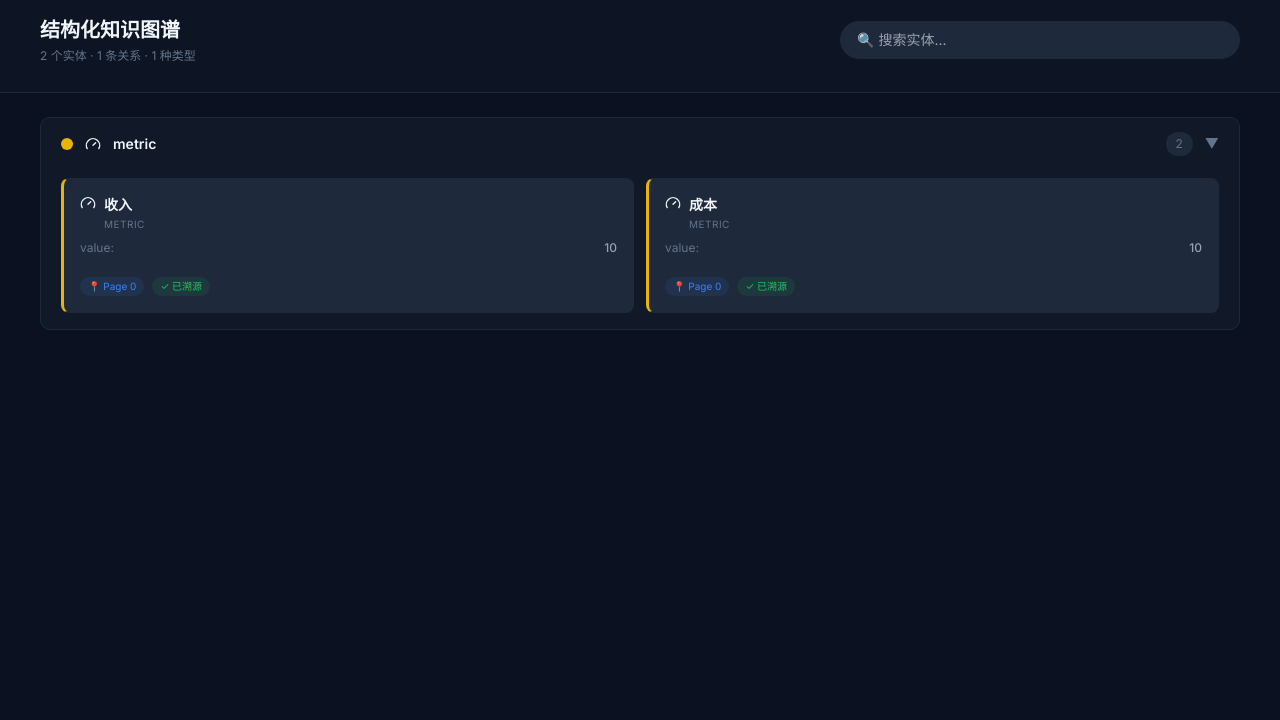
Scenario: structured view searches label/properties and opens/closes and navigates entity details
Click the heading "收入" at (118, 204), box [104,196,132,213]
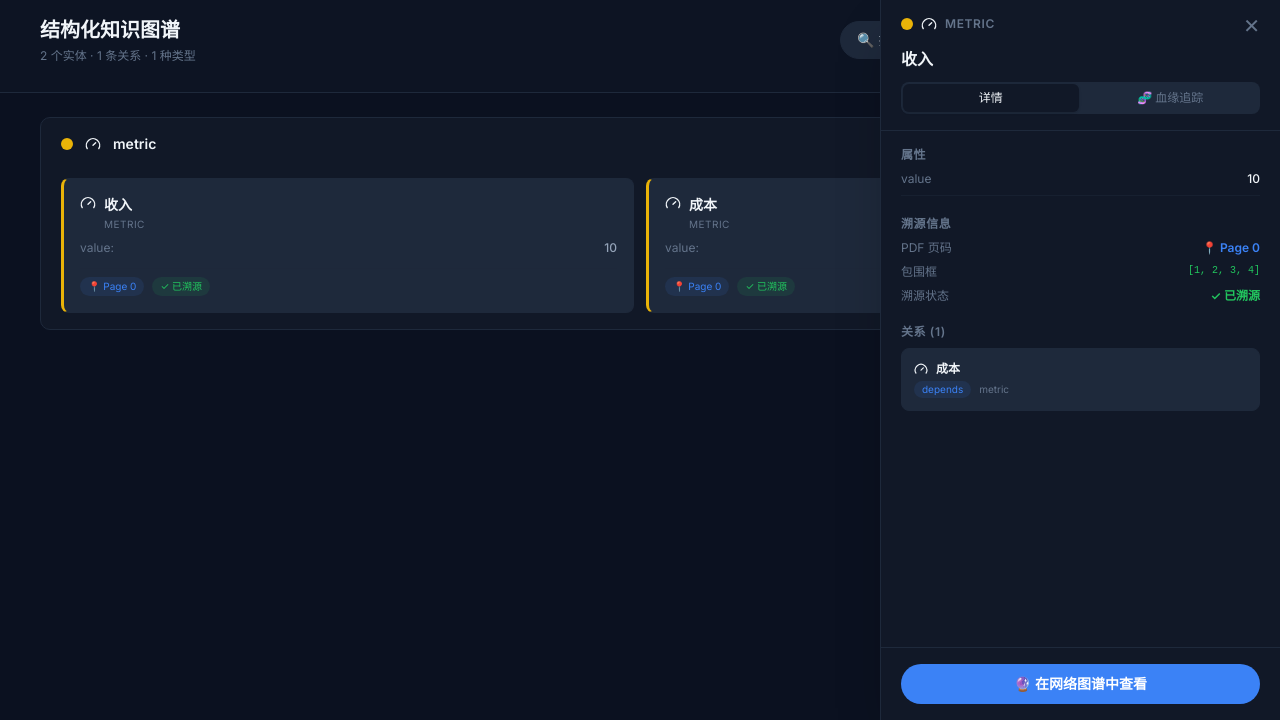
Check: the heading "关系 (1)" is shown, box [901,324,946,339]
Click the button "🔮 在网络图谱中查看" at (1080, 684), box [901,664,1260,704]
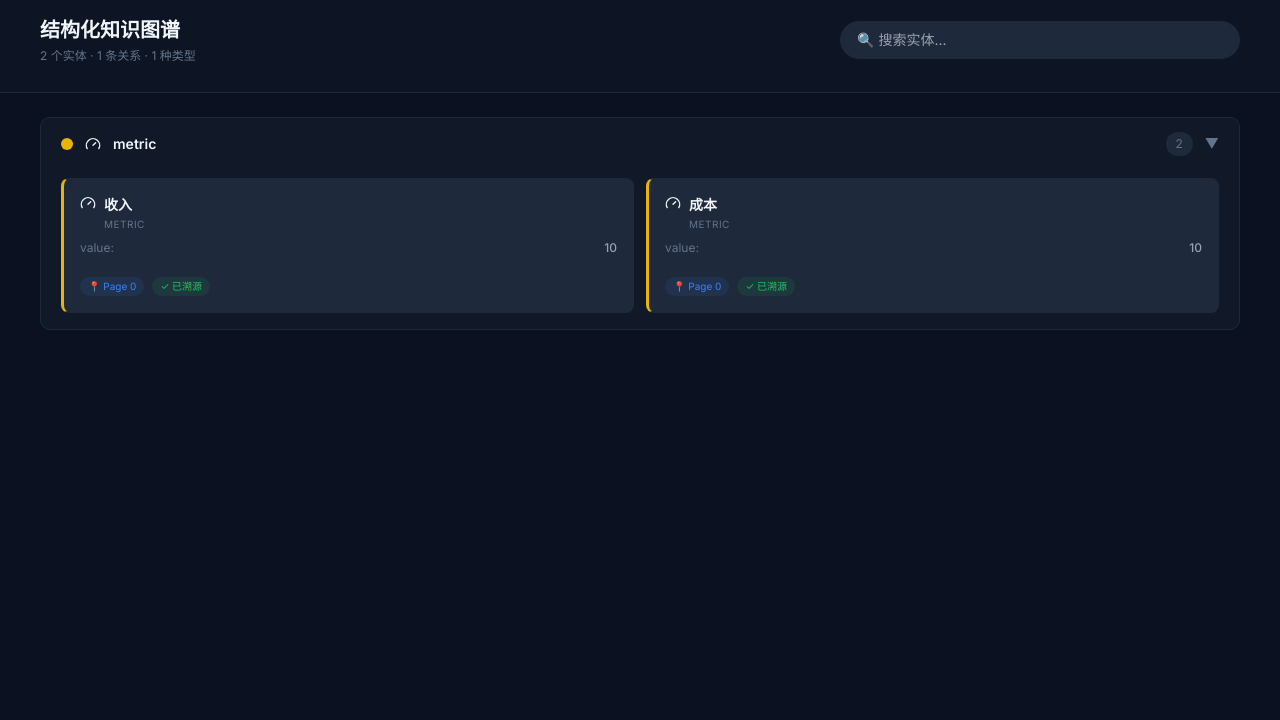
Click the heading "成本" at (703, 204), box [689,196,717,213]
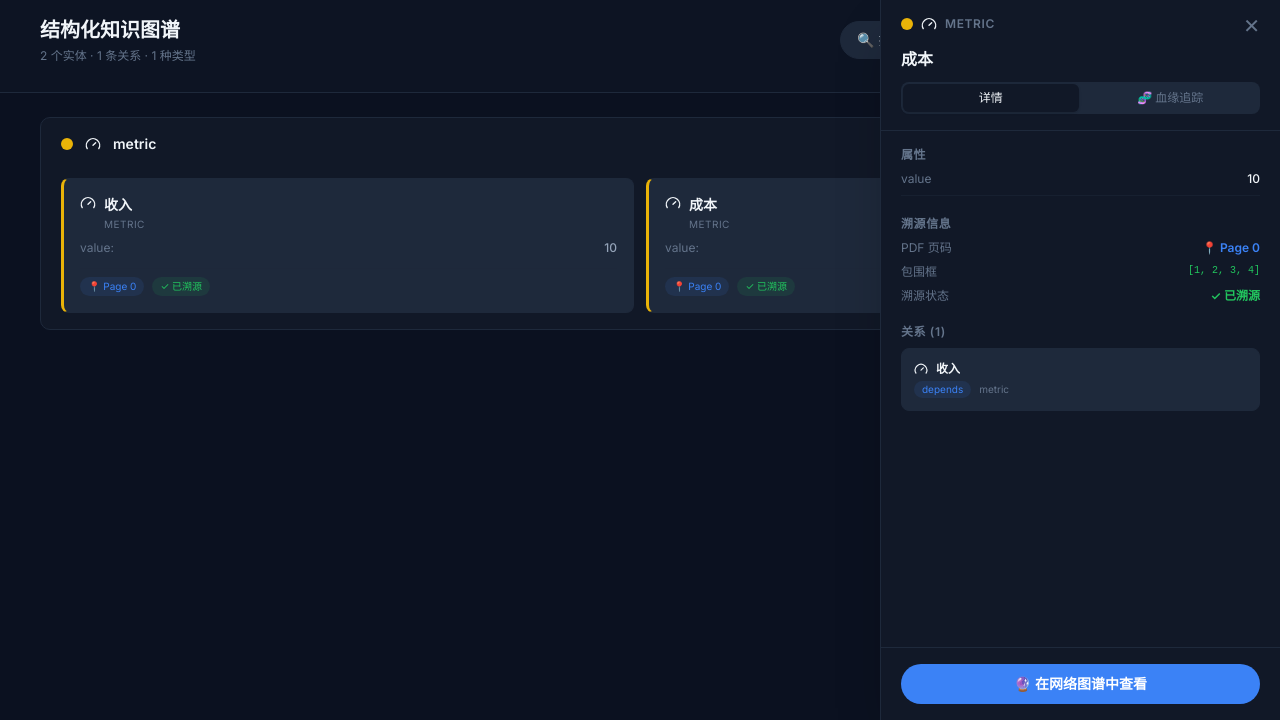
Click the button "✕" at (1252, 26), box [1243,16,1260,36]
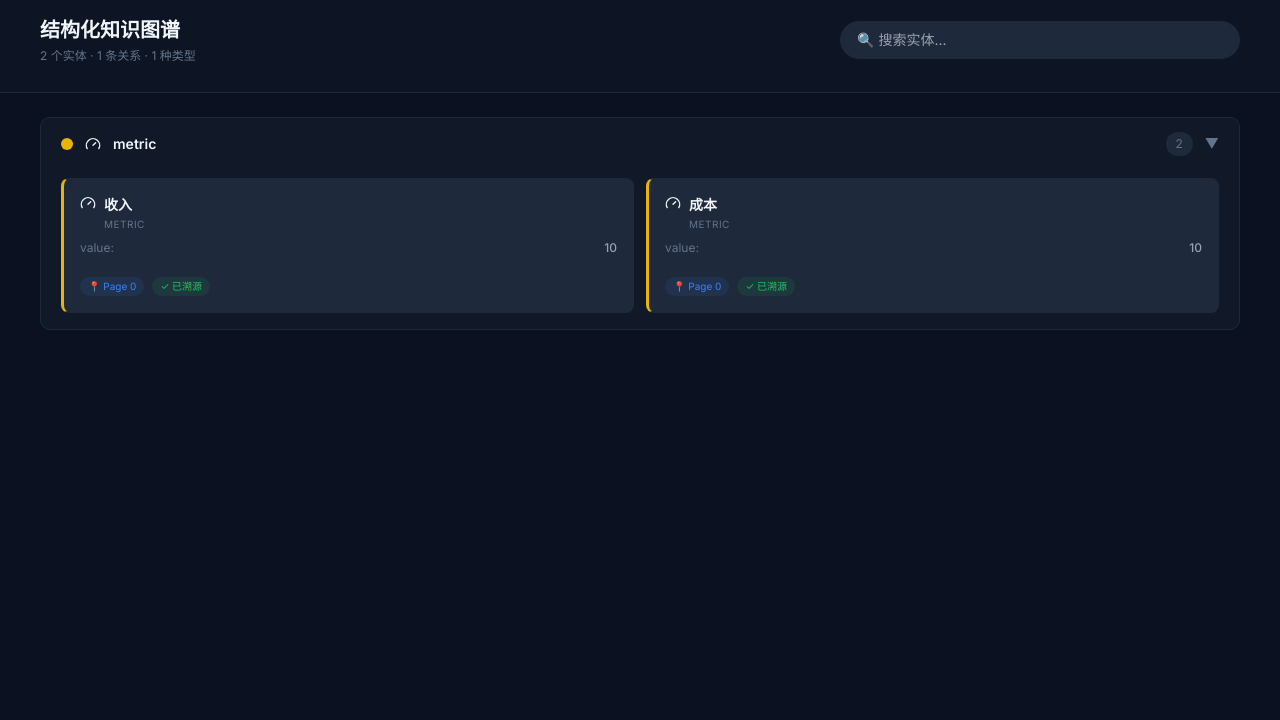
Check: the button "详情" is gone
Type "10" into the field with placeholder "🔍 搜索实体..." at (1040, 40), box [840,21,1240,59]
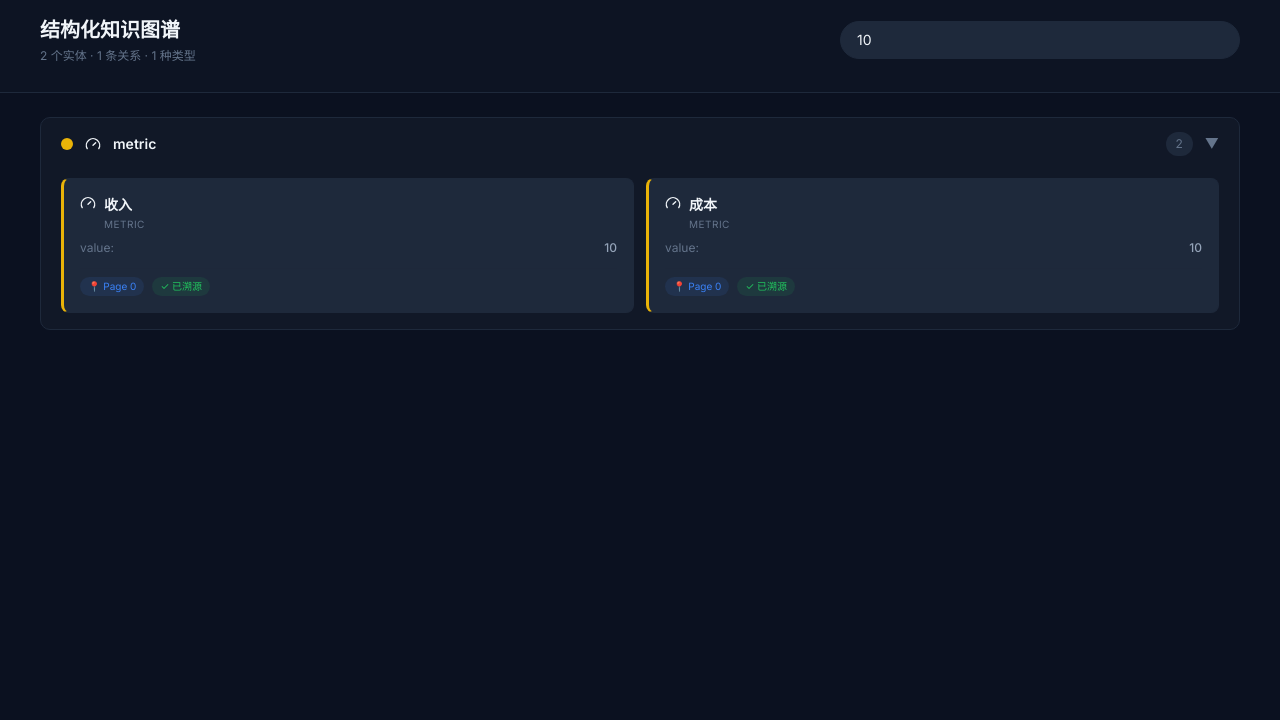
Check: the heading "收入" is shown, box [104,196,132,213]
Replace the text in the field with "absent" at (1040, 40), box [840,21,1240,59]
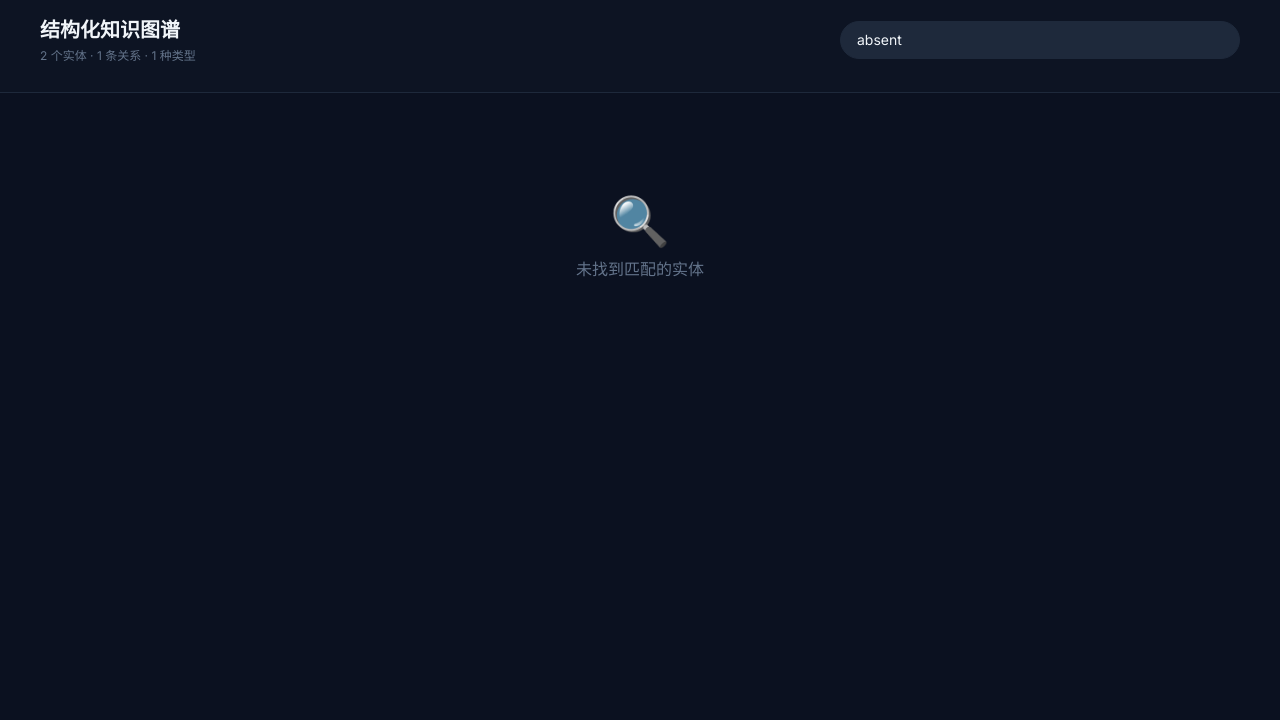
Check: the text "未找到匹配的实体" is shown, box [576,259,704,279]
